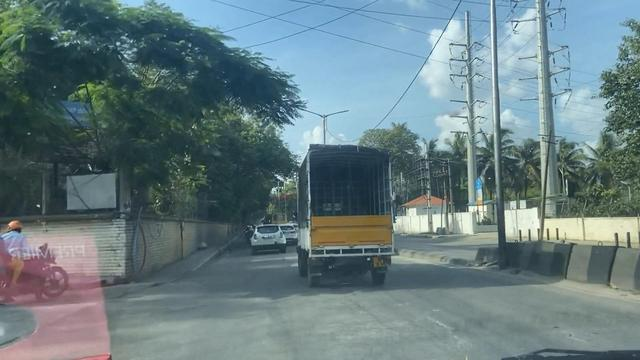HMV: (299, 143, 395, 288)
LMV: (250, 223, 285, 251)
RoadDamages: (0, 301, 101, 345)
UnsurfacedRoad: (406, 304, 473, 347)
